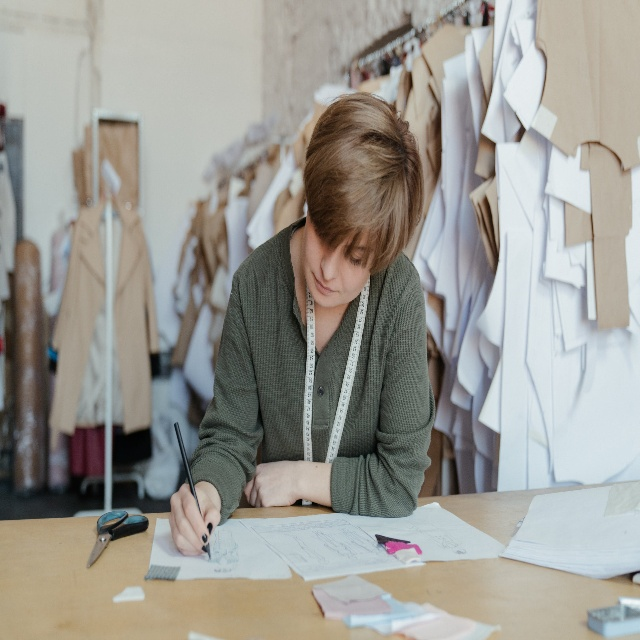Sin_guantes: (168, 481, 221, 556), (244, 459, 300, 508)
